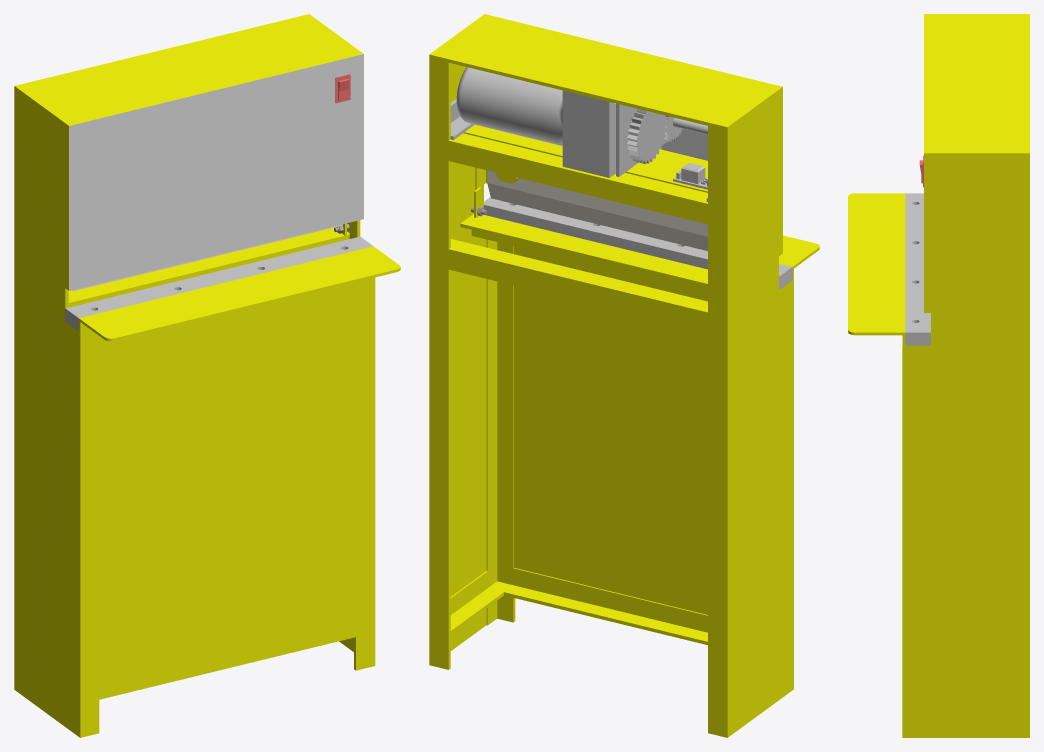
The model's file is Sheet_metal_cutter.fbx.
3 views of the same model, side by side, from view 1: azimuth 30°, elevation 25°; view 2: azimuth 150°, elevation 25°; view 3: azimuth 270°, elevation 25° (orthographic). The views are drawn at different scales.
Parts seen in each view (by area): view 1: Body1, Body1.001; view 2: Body1, Body1.003, Body1.002, Body1.001, Body1.004, Body1.010; view 3: Body1, Body1.001.
Part boxes in pixels (x1,y1,x2,y2): Body1: (14,14,400,737); Body1.001: (65,236,373,331); Body1: (429,14,819,737); Body1.003: (456,67,667,177); Body1.002: (487,170,707,250); Body1.001: (484,197,792,289); Body1.004: (616,103,667,176); Body1.010: (673,163,707,189); Body1: (848,14,1029,737); Body1.001: (905,193,930,345).
Size of the model in its own units: 92.77 by 181 by 51.16.
